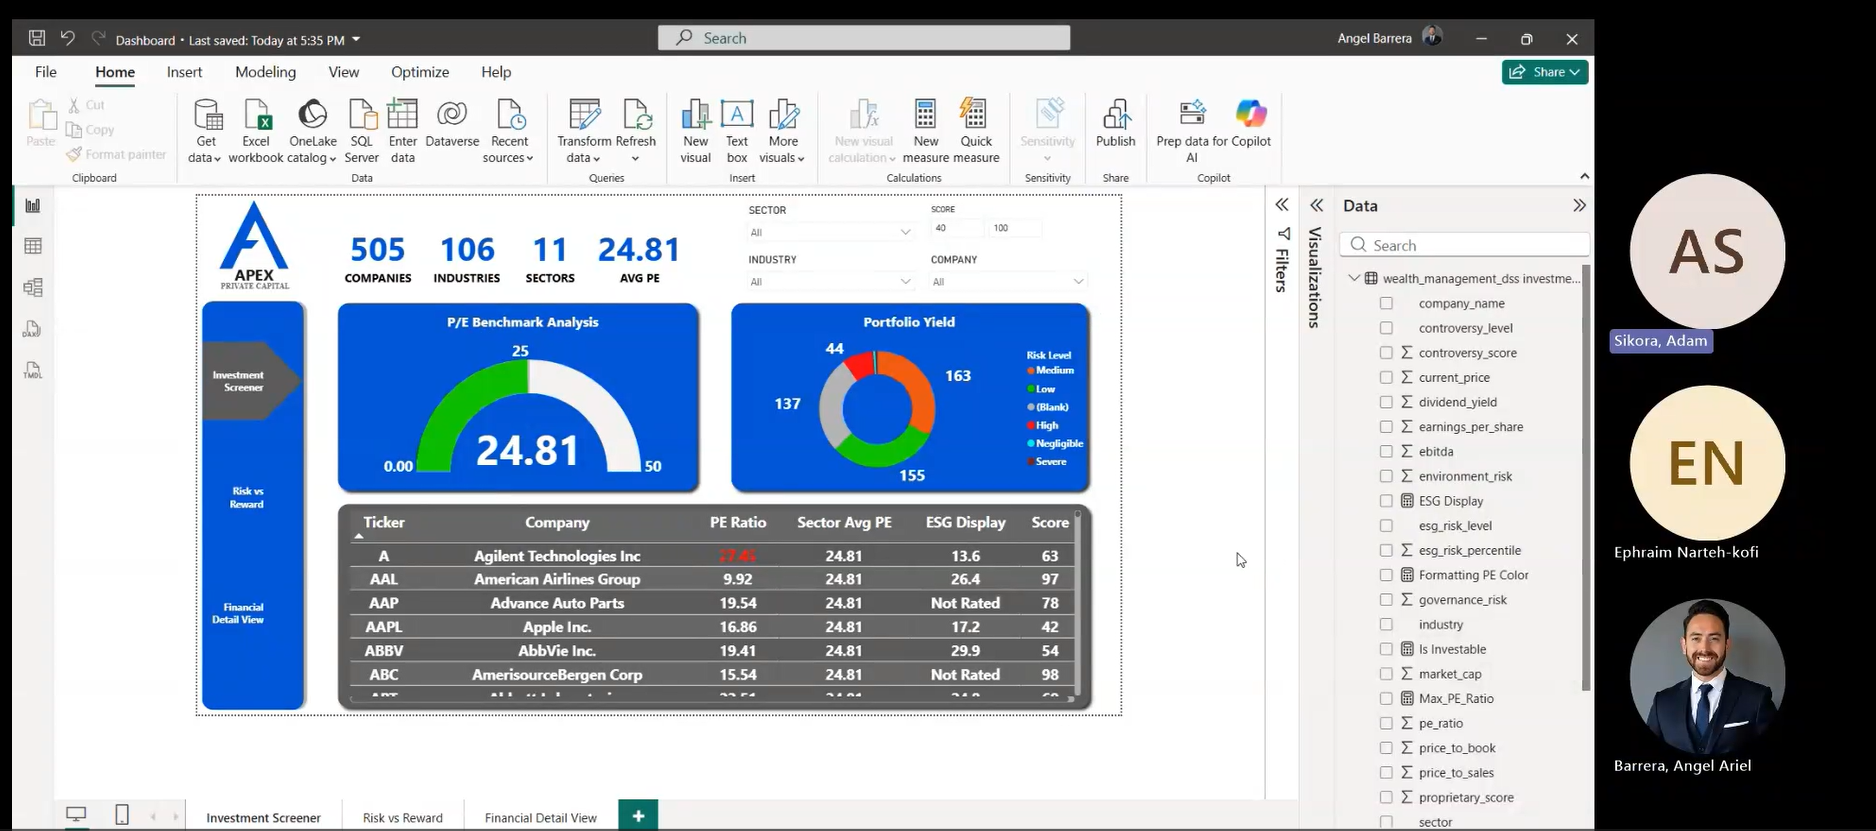

The dashboard page shown, as its layout file describes it:
{"tool":"powerbi","page":{"name":"Investment Screener","canvas":[1280,720],"ordinal":0},"visuals":[{"type":"shape","box":[186,140,516,278],"z":0},{"type":"shape","box":[732,140,512,278],"z":1000},{"type":"shape","box":[185.6,418.9,1060,301.1],"z":2000},{"type":"slicer","fields":{"Values":["wealth_management_dss investment_universe.sector"]},"box":[751.4,7.1,252.9,61.4],"z":3000},{"type":"slicer","fields":{"Values":["wealth_management_dss investment_universe.industry"]},"box":[751.2,75.6,253.1,61.2],"z":4000},{"type":"slicer","fields":{"Values":["wealth_management_dss investment_universe.proprietary_score"]},"box":[1004.4,6.9,240,60],"z":5000},{"type":"card","title":"COMPANIES","fields":{"Values":["Count(wealth_management_dss investment_universe.symbol)"]},"box":[185,31.7,130,103.3],"z":6000},{"type":"tableEx","fields":{"Values":["wealth_management_dss investment_universe.symbol","wealth_management_dss investment_universe.company_name","wealth_management_dss investment_universe.pe_ratio","wealth_management_dss investment_universe.Sector Avg PE","wealth_management_dss investment_universe.ESG Display","wealth_management_dss investment_universe.proprietary_score"]},"box":[205.6,431.1,1024.4,276.7],"z":7000},{"type":"shape","box":[0,140,153.8,580],"z":8000},{"type":"shape","box":[29.5,6.3,96.8,95.8],"z":9000},{"type":"shape","box":[47.6,33.8,66.5,68.8],"z":10000},{"type":"shape","box":[50.6,62.1,35.6,12.1],"z":11000},{"type":"textbox","box":[29.4,90,96.8,39.7],"z":12000},{"type":"textbox","box":[23,110,115.2,29.6],"z":13000},{"type":"slicer","fields":{"Values":["wealth_management_dss investment_universe.company_name"]},"box":[1004.4,75.6,240,60],"z":14000},{"type":"card","title":"COMPANIES","fields":{"Values":["Count(wealth_management_dss investment_universe.industry)"]},"box":[315,31.9,116.2,103.1],"z":15000},{"type":"card","title":"COMPANIES","fields":{"Values":["Count(wealth_management_dss investment_universe.sector)"]},"box":[431.2,31.9,116.2,103.1],"z":16000},{"type":"card","title":"COMPANIES","fields":{"Values":["wealth_management_dss investment_universe.Sector Avg PE"]},"box":[548.3,31.7,130,103.3],"z":17000},{"type":"gauge","title":"P/E Benchmark Analysis","fields":{"Y":["Avg(wealth_management_dss investment_universe.pe_ratio)"],"MaxValue":["wealth_management_dss investment_universe.Max_PE_Ratio"],"TargetValue":["wealth_management_dss investment_universe.Target_PE_Ratio"]},"box":[224,162,454,232],"z":18000},{"type":"donutChart","title":"Portfolio Yield","fields":{"Category":["wealth_management_dss investment_universe.esg_risk_level"],"Y":["CountNonNull(wealth_management_dss investment_universe.symbol)"]},"box":[731.7,161.7,511.7,245],"z":19000},{"type":"pageNavigator","box":[6.9,201.5,140.8,433.8],"z":20000}]}

Visuals, with their boxes on the page's 1280x720 design canvas (x1, y1, x2, y2). These are canvas units, not pixel positions in the 1876x831 screenshot, which may show the page scaled, cropped or inside an application window:
shape: x1=186 y1=140 x2=702 y2=418
shape: x1=732 y1=140 x2=1244 y2=418
shape: x1=186 y1=419 x2=1246 y2=720
slicer - wealth_management_dss investment_universe.sector: x1=751 y1=7 x2=1004 y2=68
slicer - wealth_management_dss investment_universe.industry: x1=751 y1=76 x2=1004 y2=137
slicer - wealth_management_dss investment_universe.proprietary_score: x1=1004 y1=7 x2=1244 y2=67
"COMPANIES" card: x1=185 y1=32 x2=315 y2=135
tableEx - wealth_management_dss investment_universe.symbol x wealth_management_dss investment_universe.company_name: x1=206 y1=431 x2=1230 y2=708
shape: x1=0 y1=140 x2=154 y2=720
shape: x1=30 y1=6 x2=126 y2=102
shape: x1=48 y1=34 x2=114 y2=103
shape: x1=51 y1=62 x2=86 y2=74
textbox: x1=29 y1=90 x2=126 y2=130
textbox: x1=23 y1=110 x2=138 y2=140
slicer - wealth_management_dss investment_universe.company_name: x1=1004 y1=76 x2=1244 y2=136
"COMPANIES" card: x1=315 y1=32 x2=431 y2=135
"COMPANIES" card: x1=431 y1=32 x2=547 y2=135
"COMPANIES" card: x1=548 y1=32 x2=678 y2=135
"P/E Benchmark Analysis" gauge: x1=224 y1=162 x2=678 y2=394
"Portfolio Yield" donutChart: x1=732 y1=162 x2=1243 y2=407
pageNavigator: x1=7 y1=202 x2=148 y2=635
